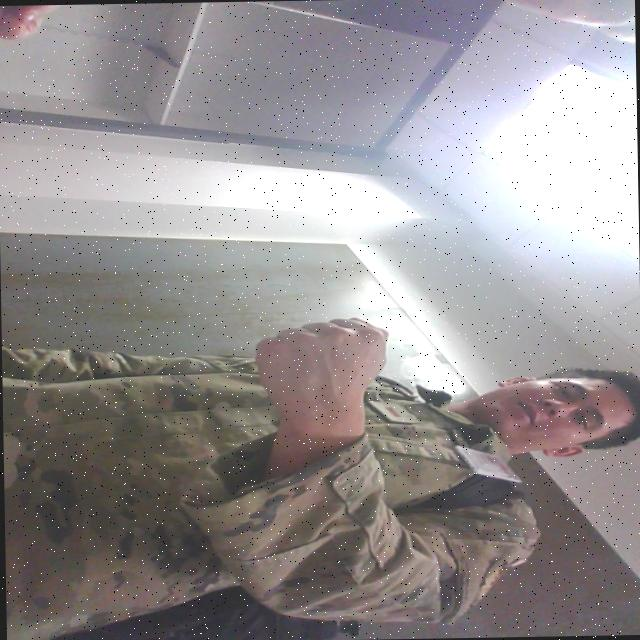rock: (242, 313, 396, 410)
